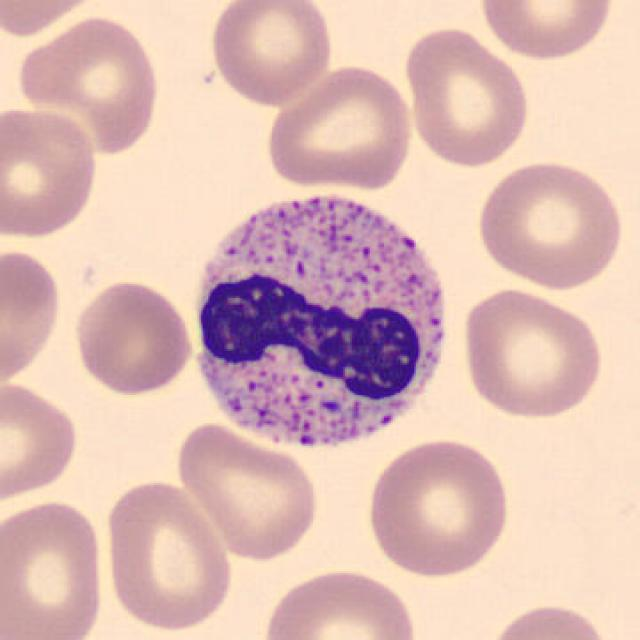Neutrophil: (181, 178, 459, 466)
RBC: (13, 10, 164, 158), (362, 434, 514, 580), (100, 476, 236, 635), (172, 420, 322, 562), (473, 155, 627, 291), (457, 286, 608, 422), (263, 62, 418, 192), (400, 23, 533, 169), (0, 495, 108, 639), (70, 275, 196, 398), (204, 0, 338, 108), (0, 104, 101, 241), (258, 564, 421, 640), (0, 378, 82, 504), (0, 243, 66, 388), (476, 0, 616, 63), (484, 599, 615, 640), (0, 0, 108, 40)
